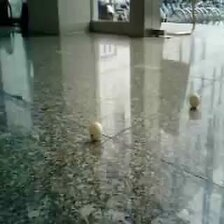w: (88, 122, 104, 141), (189, 92, 201, 108)
